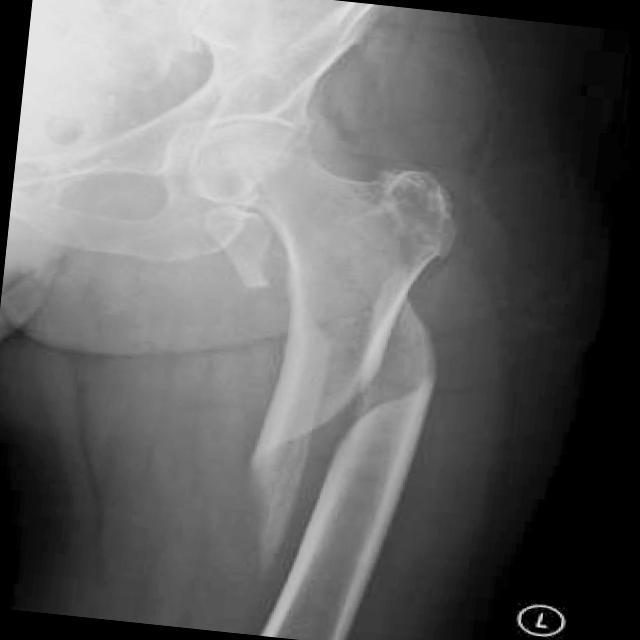Impact Fracture: (286, 336, 420, 464)
